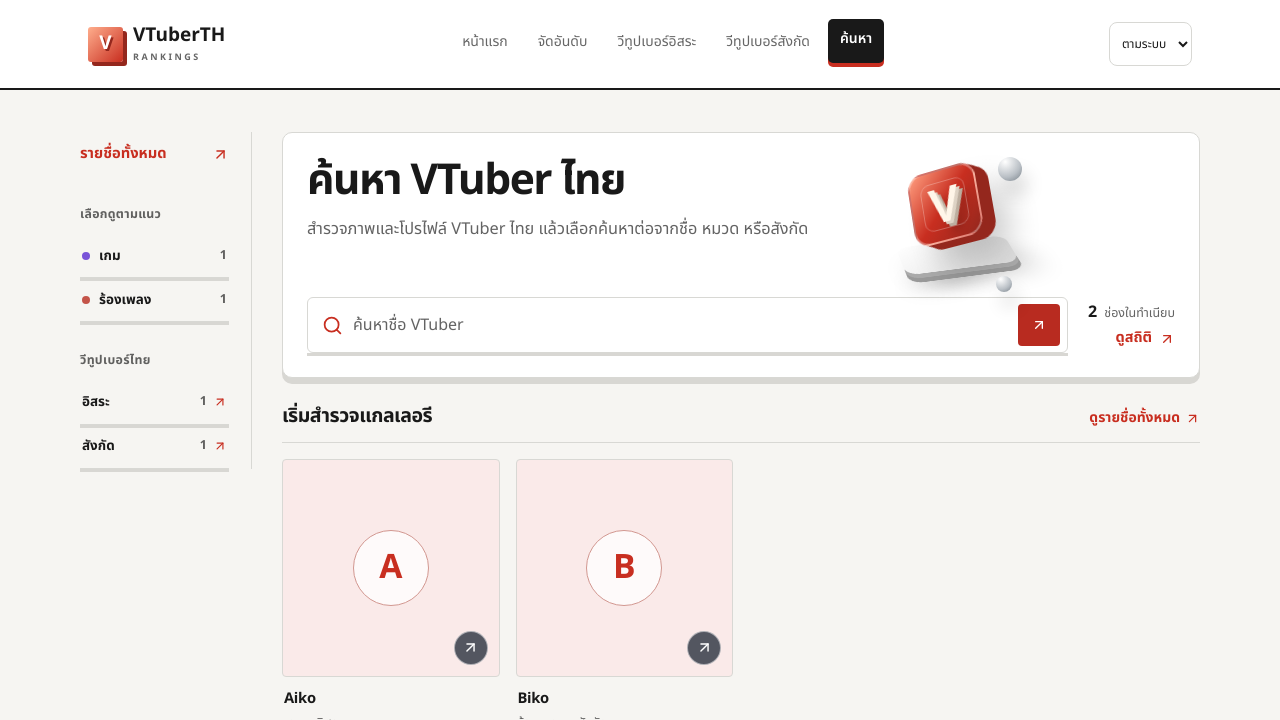
Test: Public discovery Home › filters creators by affiliation
Click the link "อิสระ 1". click: (155, 403)
box: [80,381,229,425]
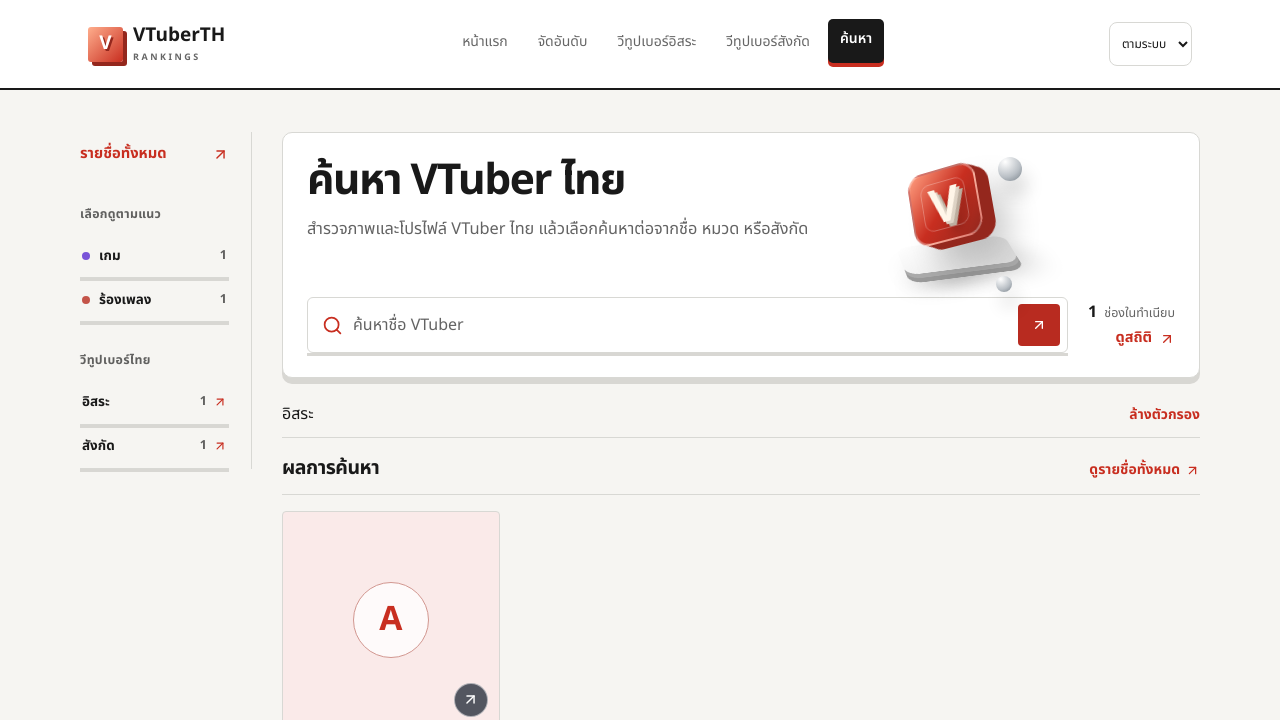
Now the number of links with class "discovery-card" is 1, box [282,511,500,719]
